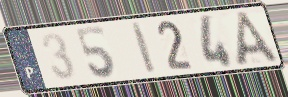2: (157, 19, 195, 71)
3: (41, 31, 76, 83)
4: (197, 13, 234, 70)
5: (73, 23, 119, 81)
A: (235, 9, 283, 68)
I: (129, 20, 159, 76)
